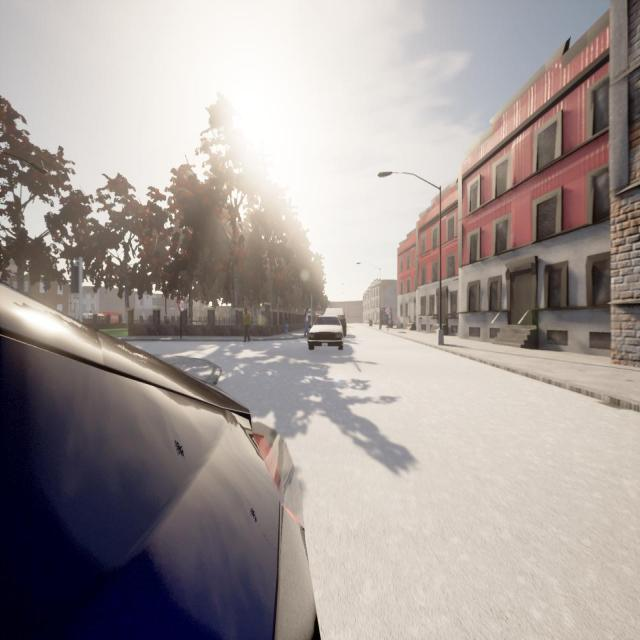Pedestrian: (242, 306, 252, 342), (282, 312, 291, 335), (304, 308, 310, 338)
Traffic_Signs: (178, 300, 185, 312), (385, 308, 390, 315)
Vehicle: (0, 286, 317, 640), (308, 316, 344, 350), (322, 308, 346, 336)
traffic_light: (70, 265, 80, 294)
